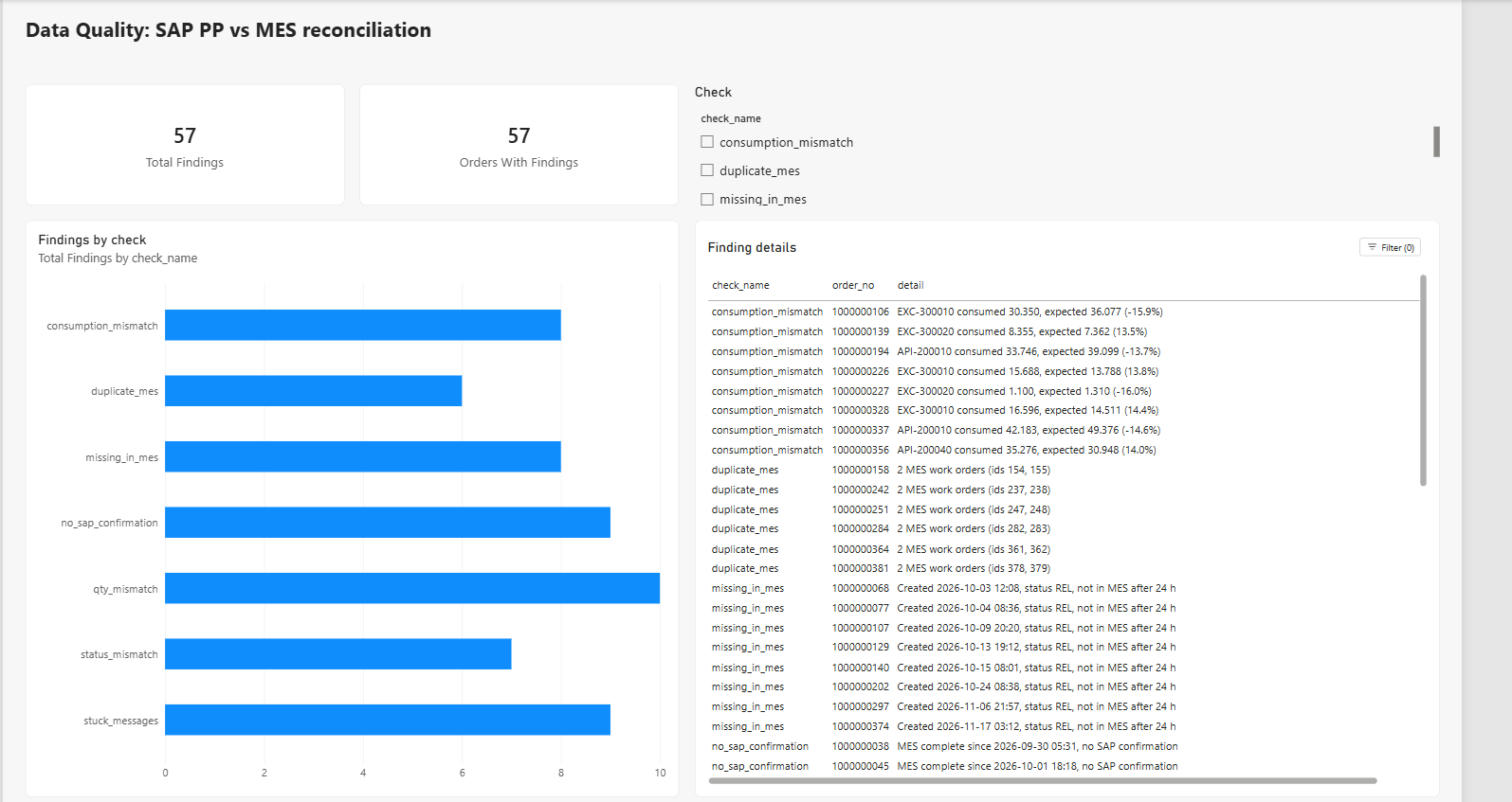

This screenshot's page, from the dashboard's own definition file:
{"tool":"powerbi","page":{"name":"Data Quality","canvas":[1920,1080],"ordinal":0},"visuals":[{"type":"textbox","box":[30,20,1400,70],"z":0},{"type":"card","fields":{"Values":["Summary.Total Findings"]},"box":[30,110,420,160],"z":1},{"type":"card","fields":{"Values":["Findings.Orders With Findings"]},"box":[470,110,420,160],"z":2},{"type":"slicer","title":"Check","fields":{"Values":["Summary.check_name"]},"box":[910,110,980,160],"z":3},{"type":"clusteredBarChart","title":"Findings by check","fields":{"Category":["Summary.check_name"],"Y":["Summary.Total Findings"]},"box":[30,290,860,760],"z":4},{"type":"tableEx","title":"Finding details","fields":{"Values":["Findings.check_name","Findings.order_no","Findings.detail"]},"box":[910,290,980,760],"z":5}]}

Visuals, with their boxes on the page's 1920x1080 design canvas (x1, y1, x2, y2). These are canvas units, not pixel positions in the 1512x802 screenshot, which may show the page scaled, cropped or inside an application window:
textbox: bbox=(30, 20, 1430, 90)
card - Summary.Total Findings: bbox=(30, 110, 450, 270)
card - Findings.Orders With Findings: bbox=(470, 110, 890, 270)
"Check" slicer: bbox=(910, 110, 1890, 270)
"Findings by check" clusteredBarChart: bbox=(30, 290, 890, 1050)
"Finding details" tableEx: bbox=(910, 290, 1890, 1050)
